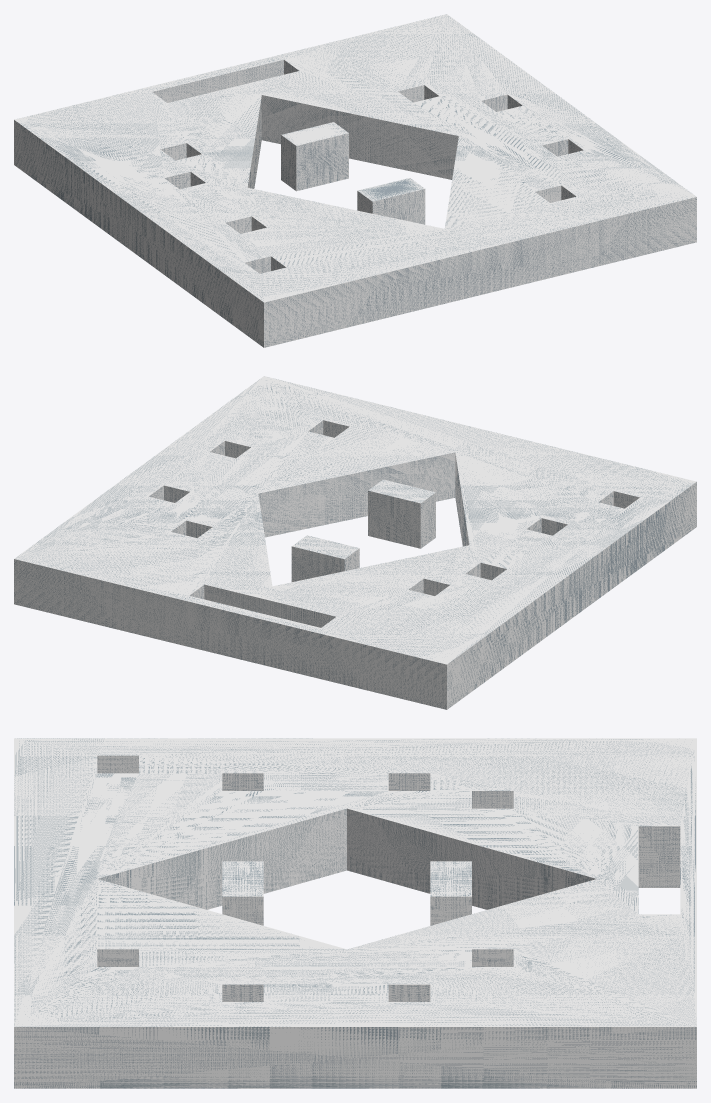
3 renders of one model, top to bottom at view 1: azimuth 30°, elevation 25°; view 2: azimuth 150°, elevation 25°; view 3: azimuth 270°, elevation 25°, orthographic. The views are drawn at different scales.
Parts seen in each view (by area): view 1: Model; view 2: Model; view 3: Model.
Part boxes in pixels (x1,y1,x2,y2): Model: [14, 14, 696, 347]; Model: [14, 376, 696, 709]; Model: [14, 738, 696, 1088].
Bounding box in the file's own units: 5 × 0.5 × 5.
